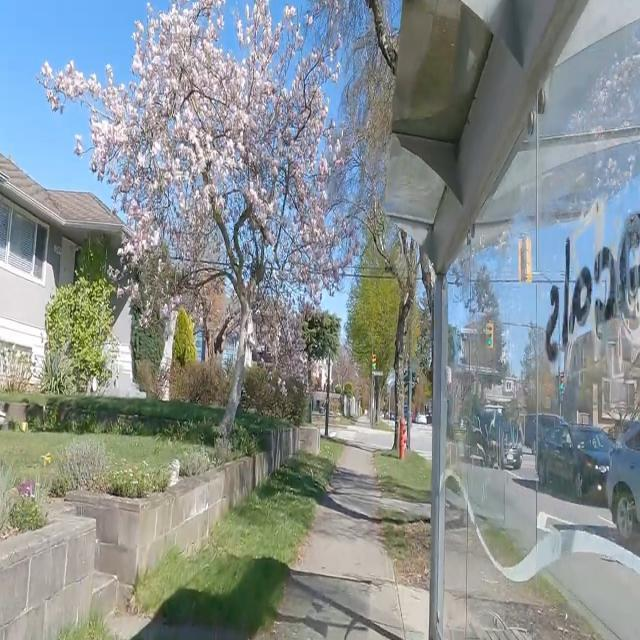Automobile: (525, 414, 639, 534), (465, 406, 520, 467)
Obstacle: (385, 0, 639, 639), (371, 228, 420, 458), (324, 350, 333, 436)
Road: (329, 425, 391, 451), (411, 423, 431, 460)
Sidewalk: (255, 446, 428, 639)
